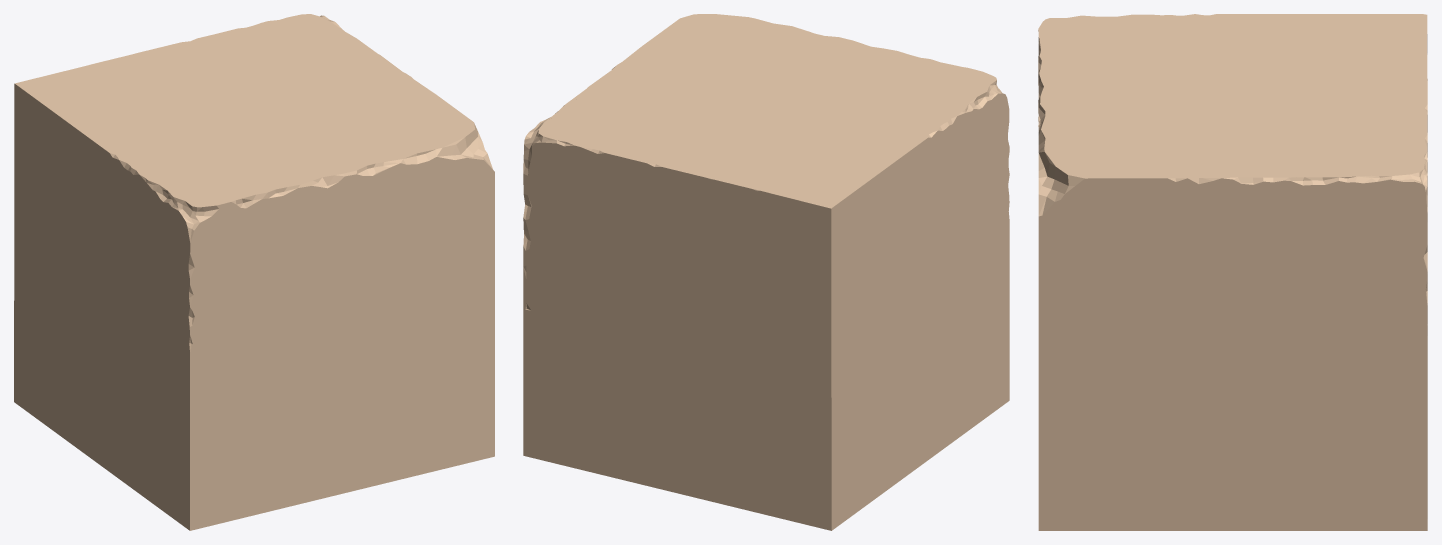
The model's file is P_Stone_Block.fbx.
3 views of the same model, side by side, from view 1: azimuth 30°, elevation 25°; view 2: azimuth 150°, elevation 25°; view 3: azimuth 270°, elevation 25° (orthographic). The views are drawn at different scales.
Parts seen in each view (by area): view 1: wireframe.035; view 2: wireframe.035; view 3: wireframe.035.
Part boxes in pixels (bbox=[...]): wireframe.035: bbox=[14, 14, 494, 530]; wireframe.035: bbox=[523, 14, 1009, 530]; wireframe.035: bbox=[1038, 14, 1427, 530].
Bounding box in the file's own units: 100 × 100 × 100.
